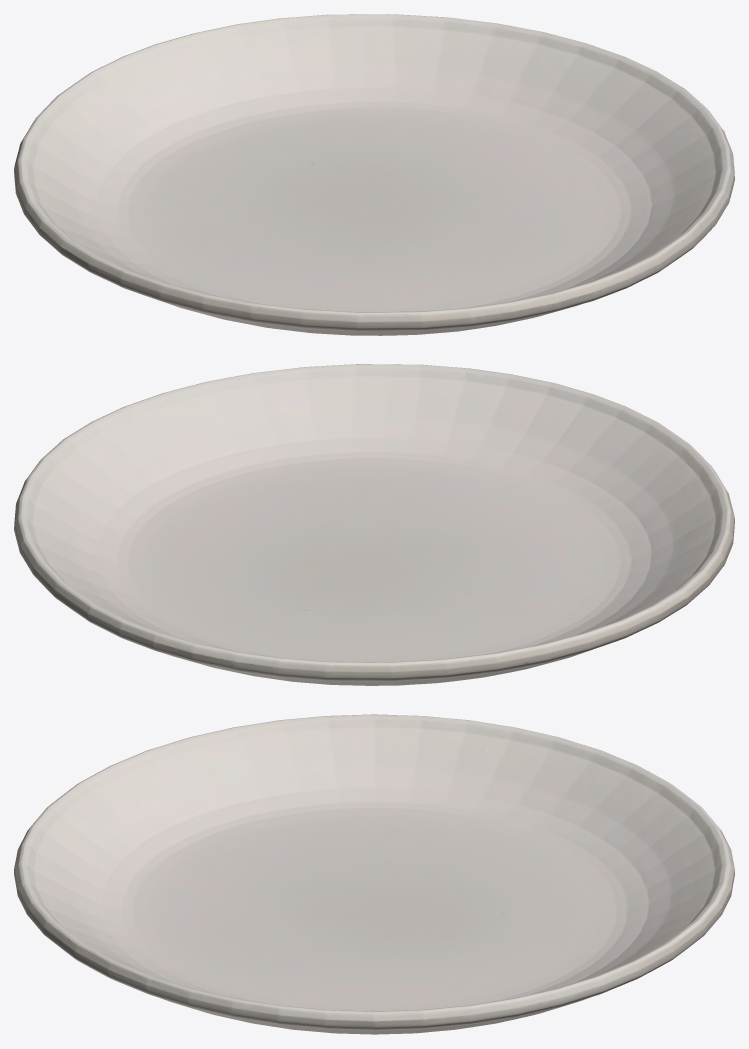
Rendered from plate.glb.
3 views of the same model, one above another, from view 1: azimuth 30°, elevation 25°; view 2: azimuth 150°, elevation 25°; view 3: azimuth 270°, elevation 25° (orthographic).
Parts seen in each view (by area): view 1: node_0; view 2: node_0; view 3: node_0.
Part boxes in pixels (x1,y1,x2,y2): node_0: (14,14,734,335); node_0: (14,364,734,685); node_0: (14,714,734,1034).
Size of the model in its own units: 1.84 by 0.2257 by 1.85.
Materials: 1 (1 with a texture image).
